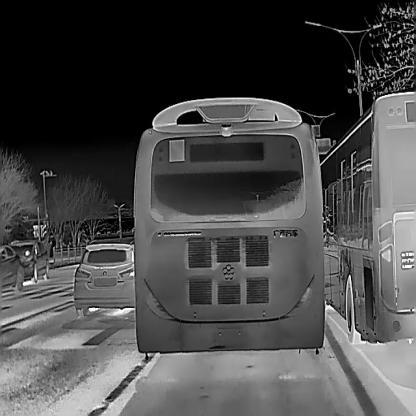car: (125, 88, 324, 352), (319, 90, 415, 345), (72, 234, 135, 316), (10, 238, 49, 281), (0, 242, 22, 290)
